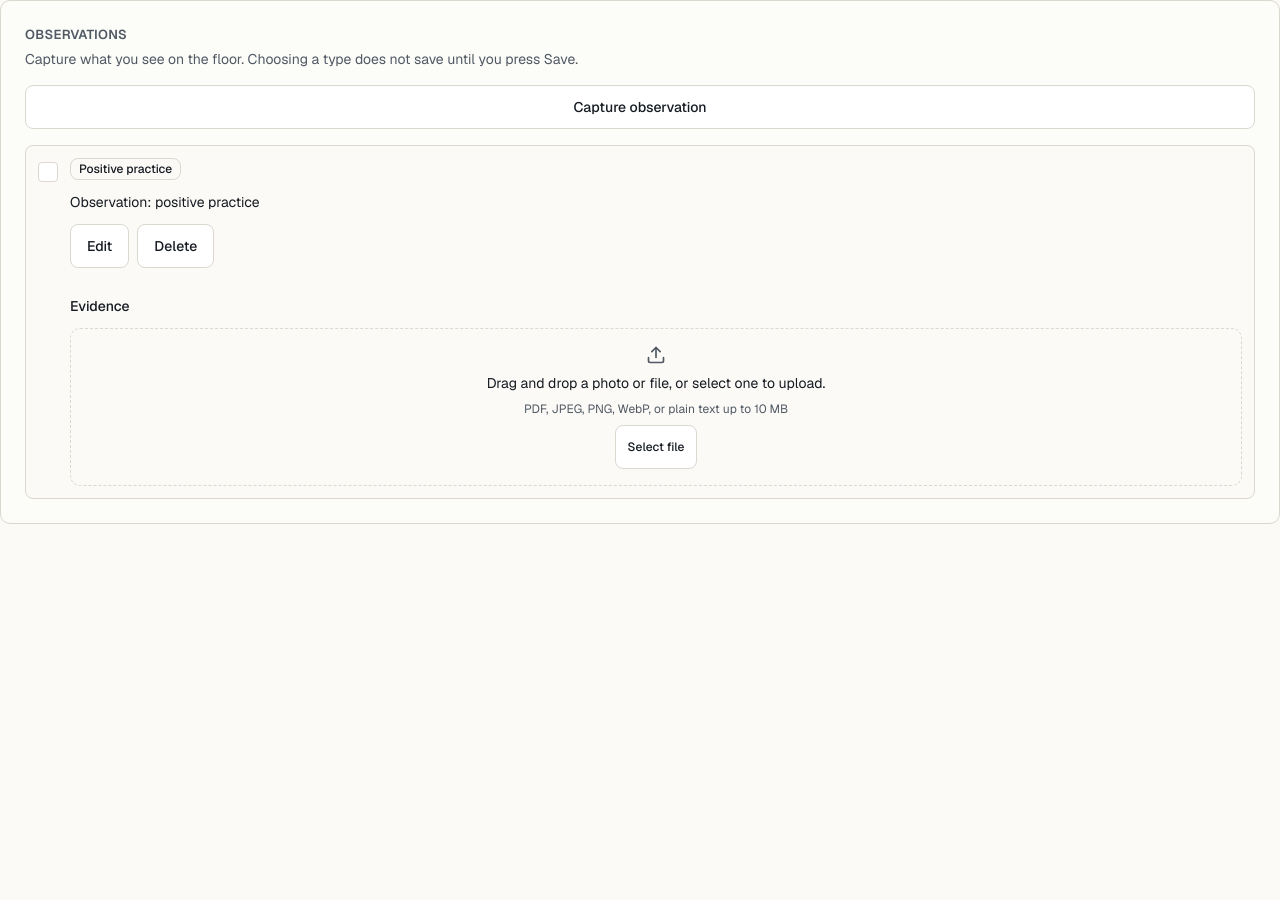
Scenario: Gemba observation capture › edits an existing in-progress observation
Click the button with test id "gemba-observation-edit-obs-existing".
click(100, 246)  # box [70,224,129,268]
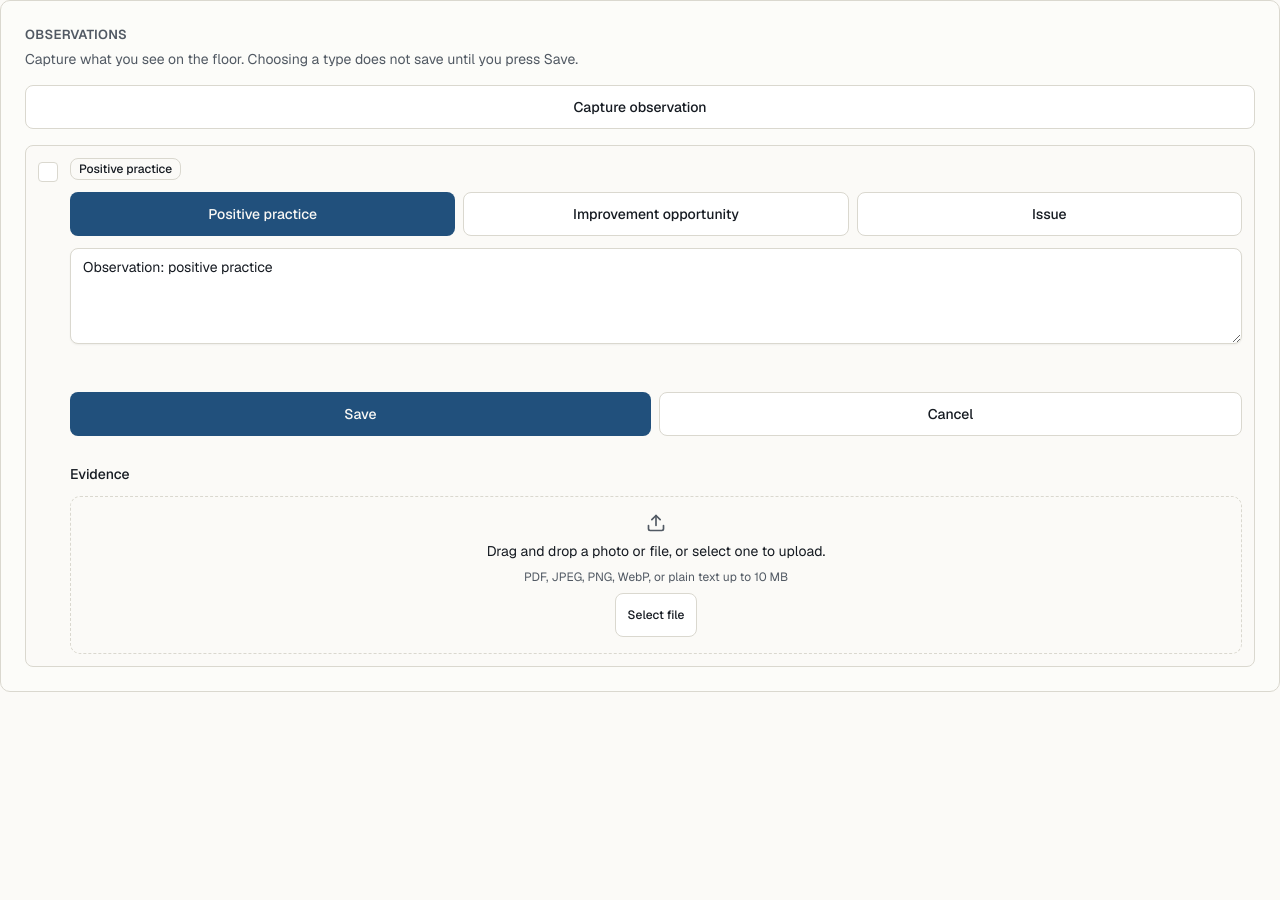
Replace the text in the text box with test id "gemba-observation-edit-text" with "Visual standard is current after the refresh." at point(656, 296), box [70,248,1242,344]
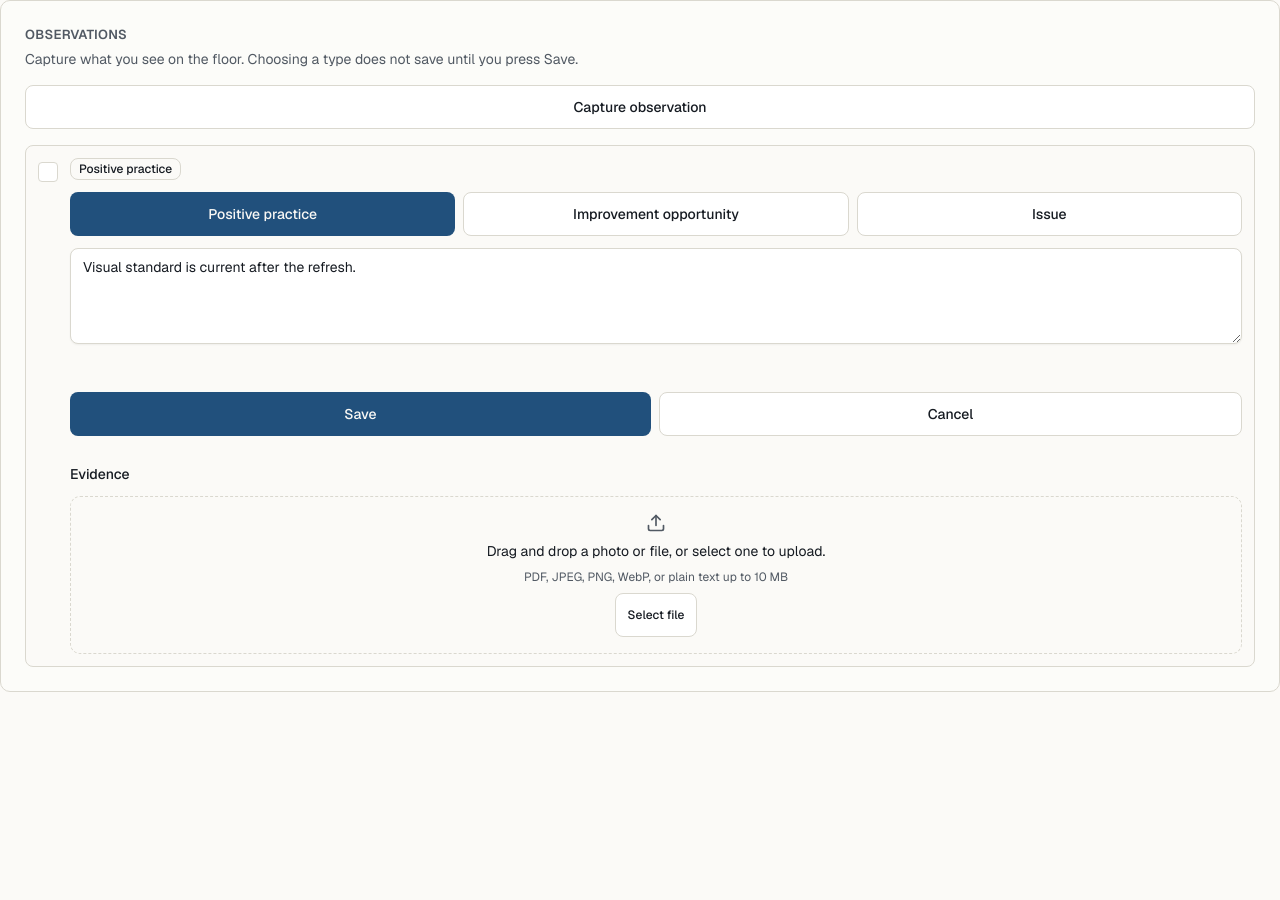
Click the button with test id "gemba-observation-edit-save".
click(360, 414)  # box [70,392,651,436]
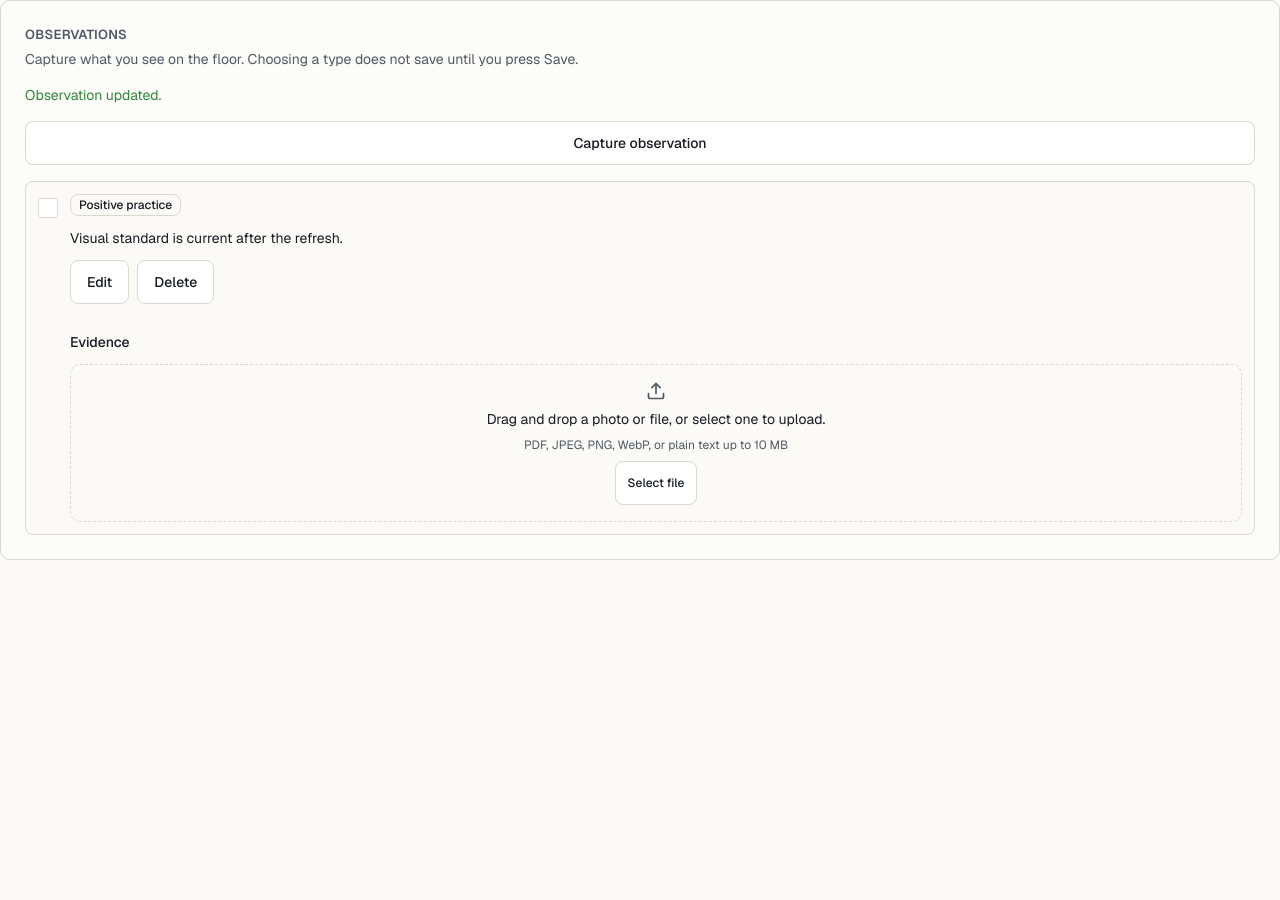
Expected: the text "Visual standard is current after the refresh." is shown, [70,228,343,246]
